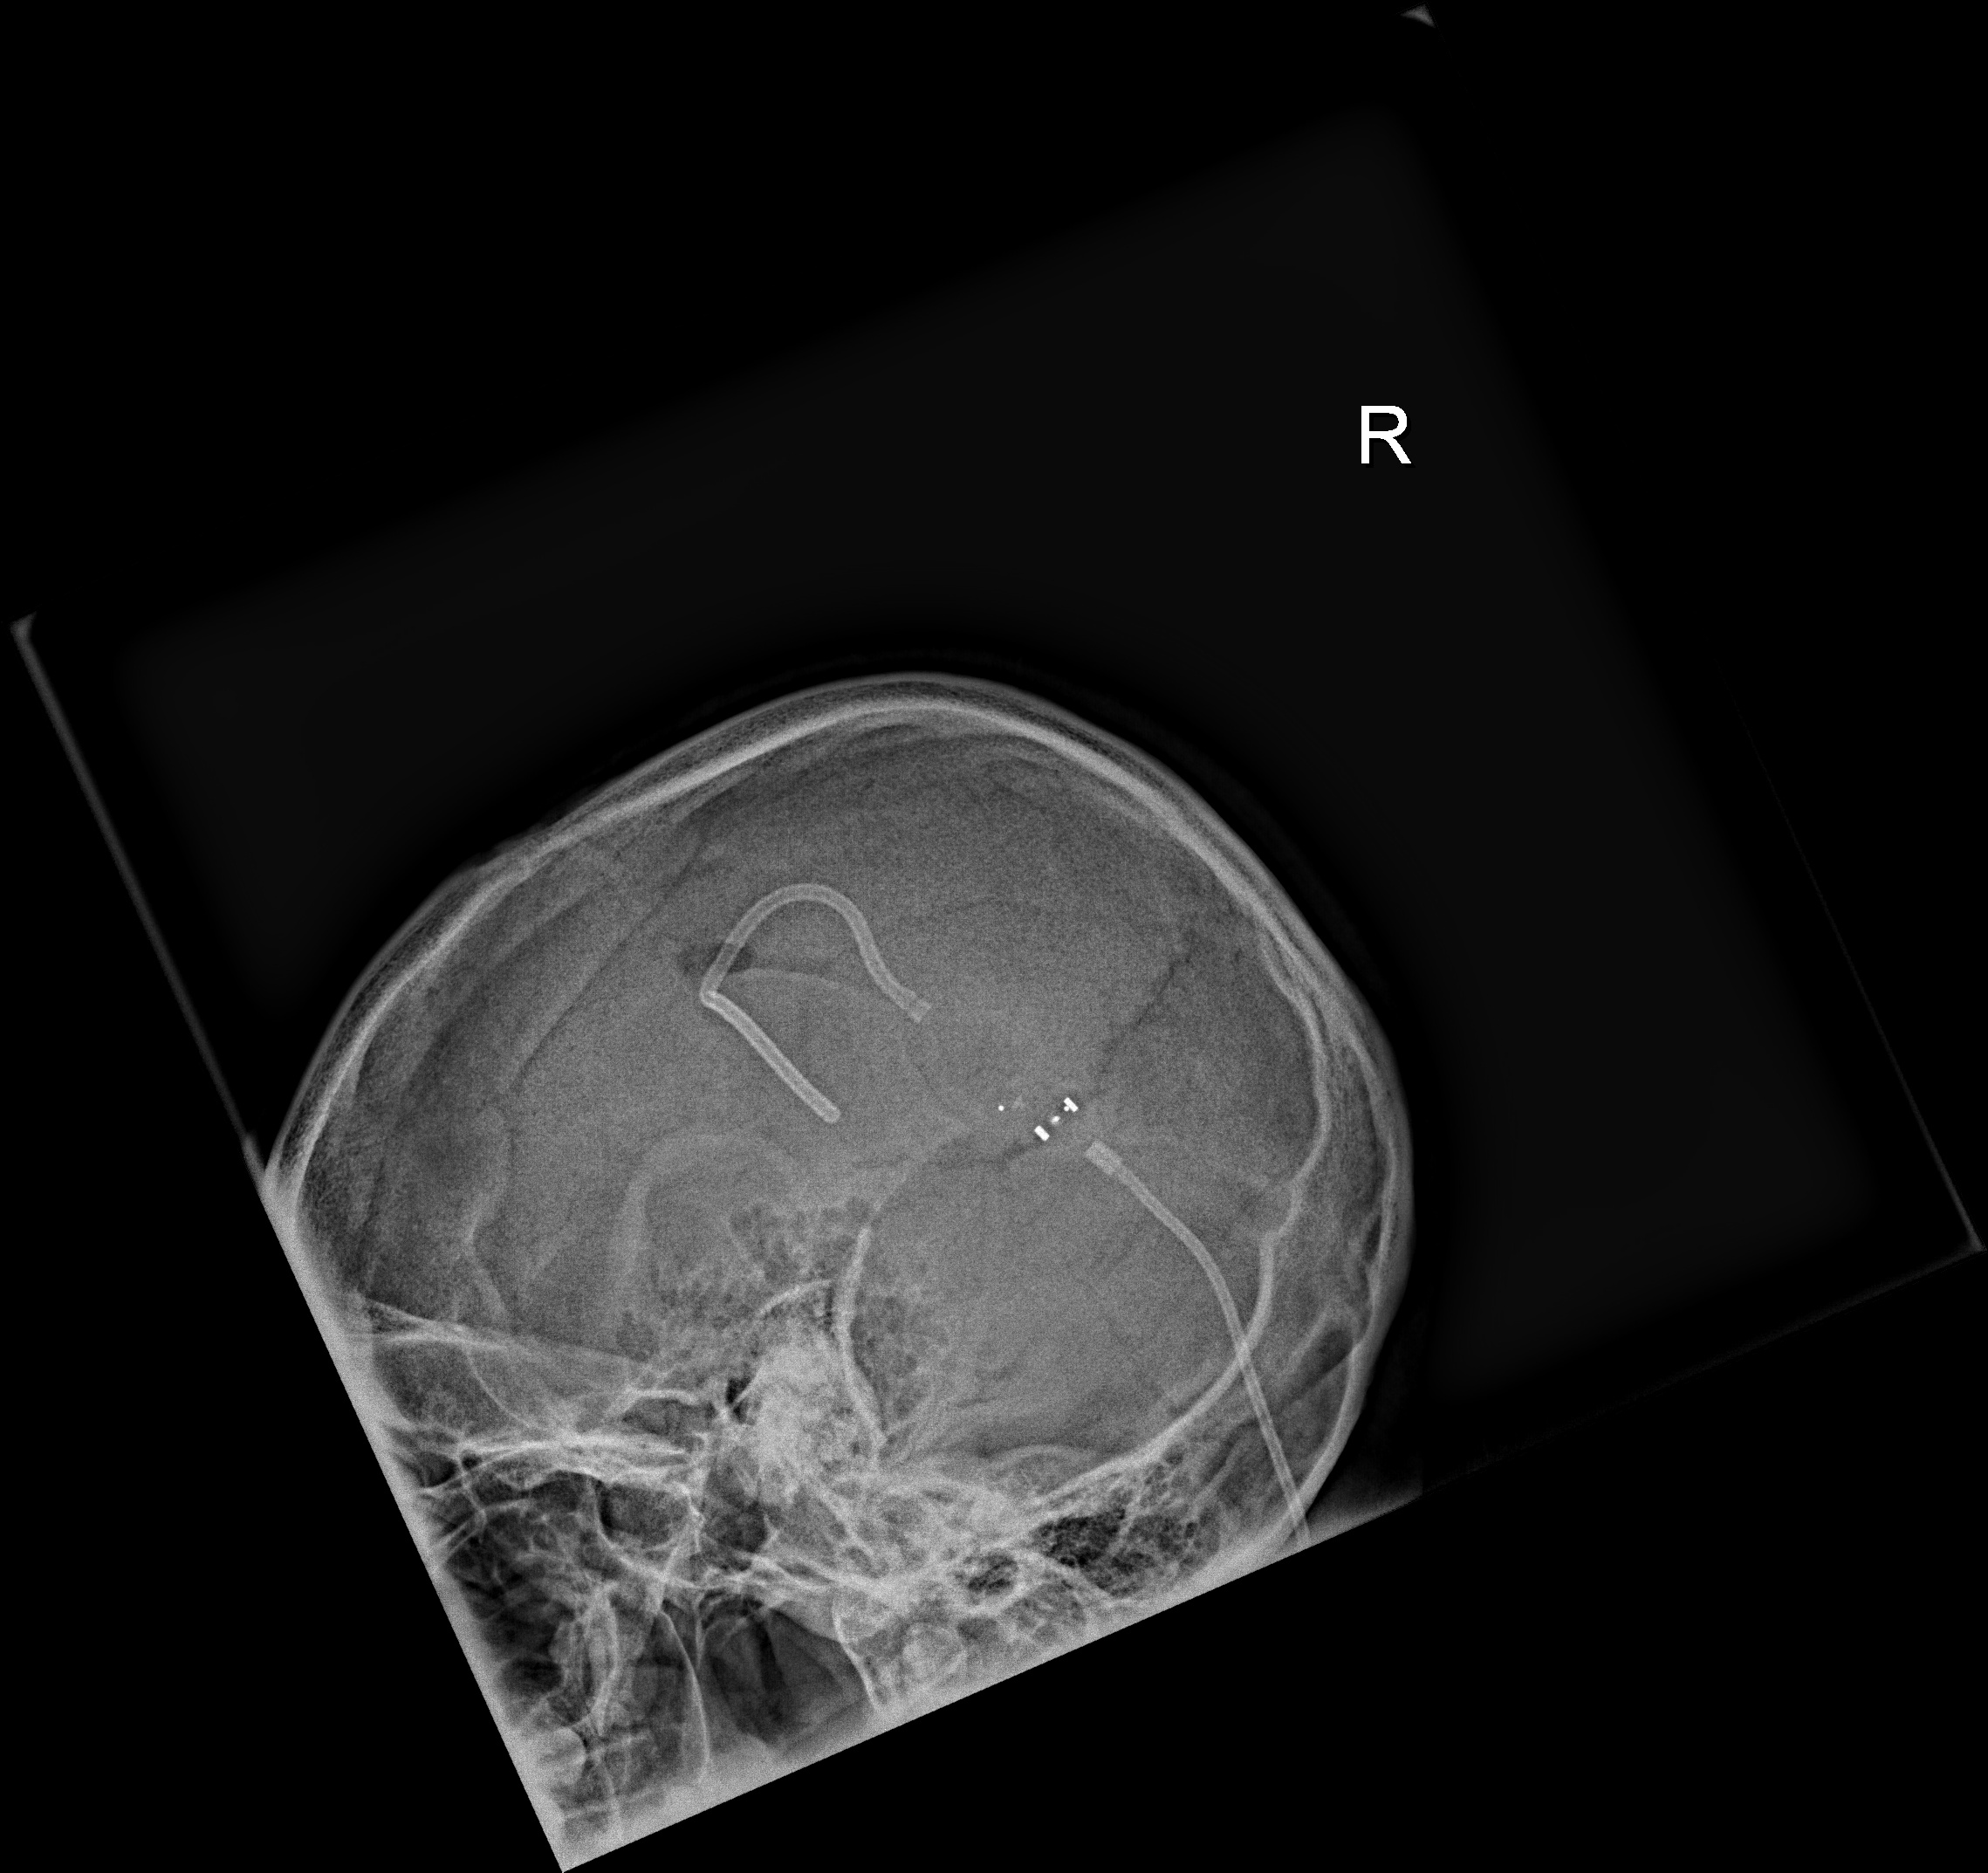Codman Certas: (983, 1072, 1092, 1160)
